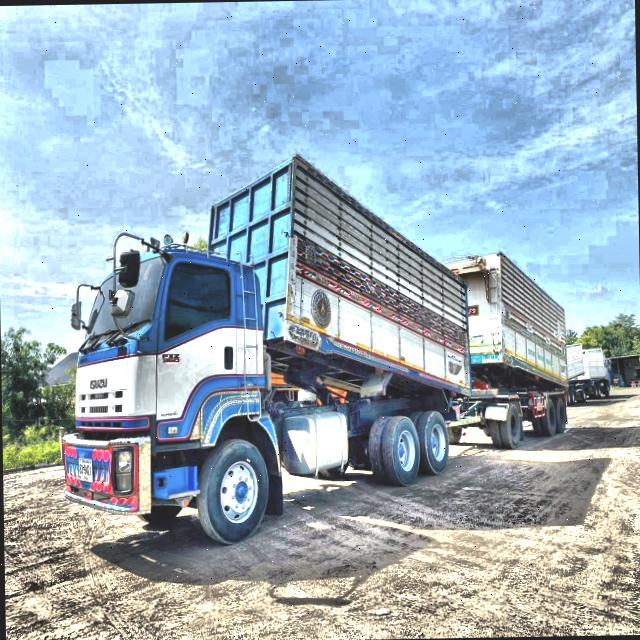trailer: (54, 148, 573, 540)
